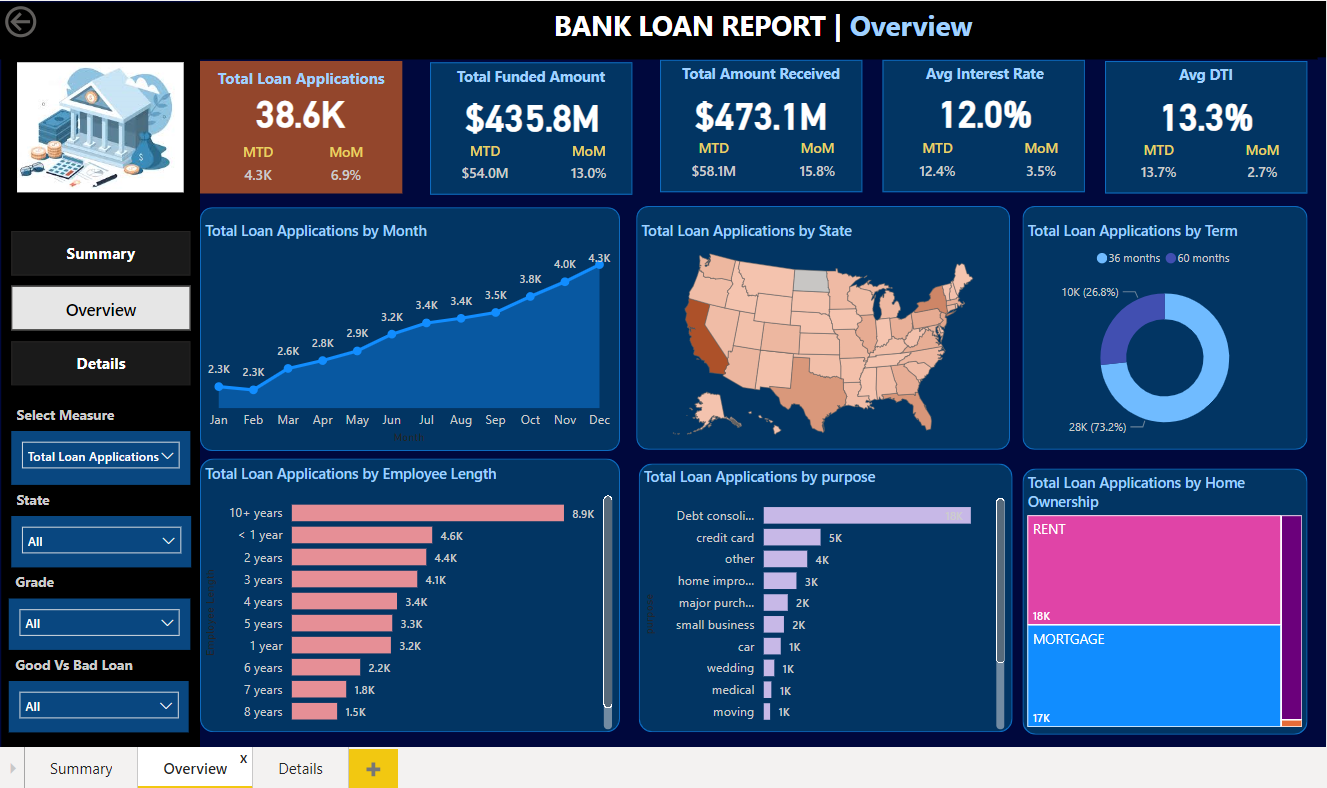

The page's visual inventory and layout, read from the dashboard file:
{"tool":"powerbi","page":{"name":"Overview","canvas":[1280,720],"ordinal":1},"visuals":[{"type":"shape","box":[1.2,55.5,191.8,664.5],"z":0},{"type":"shape","box":[193,199,405.2,235.2],"z":1000},{"type":"shape","box":[1066.1,58.1,195.4,127.8],"z":2000},{"type":"shape","box":[851.9,56.2,195.4,127.8],"z":3000},{"type":"shape","box":[636.4,56.8,195.4,127.8],"z":4000},{"type":"shape","box":[0,1.2,1271.2,55.5],"z":5000},{"type":"shape","box":[415.1,59.3,195.4,127.8],"z":6000},{"type":"shape","box":[193,57.9,195.4,127.8],"z":7000},{"type":"textbox","box":[193.4,0,1086.6,54.3],"z":8000},{"type":"card","fields":{"Values":["bank_loan_data.Total Loan Applications"]},"box":[192,83.5,196.2,47.3],"z":9000},{"type":"textbox","box":[193,59.1,195.4,30.2],"z":10000},{"type":"card","title":"MTD","fields":{"Values":["bank_loan_data.MTD Loan Applications"]},"box":[219.5,136.3,59.1,49.4],"z":11000},{"type":"card","title":"MoM","fields":{"Values":["bank_loan_data.MoM Loan Applications"]},"box":[300.3,136.3,67.5,49.4],"z":12000},{"type":"card","fields":{"Values":["bank_loan_data.Total Funded Amount"]},"box":[415.6,87.1,195.4,47],"z":13000},{"type":"card","title":"MoM","fields":{"Values":["bank_loan_data.MoM Funded Amount"]},"box":[539.8,135.3,55.5,49.4],"z":14000},{"type":"card","title":"MTD","fields":{"Values":["bank_loan_data.MTD Funded Amount"]},"box":[433.7,135.3,67.5,49.4],"z":15000},{"type":"textbox","box":[415.3,58.1,194.8,29.2],"z":16000},{"type":"textbox","box":[636.6,55.6,194.8,29.2],"z":17000},{"type":"card","fields":{"Values":["bank_loan_data.Total Amount Received"]},"box":[637,84.2,195.4,47],"z":18000},{"type":"card","title":"MoM","fields":{"Values":["bank_loan_data.MoM Amount Received"]},"box":[761.1,132.8,55.5,49.4],"z":19000},{"type":"card","title":"MTD","fields":{"Values":["bank_loan_data.MTD Amount Received"]},"box":[655,132.8,67.5,49.4],"z":20000},{"type":"card","title":"MoM","fields":{"Values":["bank_loan_data.MOM Avg Int Rate"]},"box":[976.6,132.2,55.5,49.4],"z":21000},{"type":"card","title":"MTD","fields":{"Values":["bank_loan_data.MTD Avg Int Rate"]},"box":[870.5,132.2,67.5,49.4],"z":22000},{"type":"card","fields":{"Values":["bank_loan_data.Avg Int rate"]},"box":[852.5,83.6,195.4,47],"z":23000},{"type":"textbox","box":[852.1,55,194.8,29.2],"z":24000},{"type":"card","title":"MoM","fields":{"Values":["bank_loan_data.MoM Avg DTI"]},"box":[1190.8,134.1,55.5,49.4],"z":25000},{"type":"card","title":"MTD","fields":{"Values":["bank_loan_data.MTD Avg DTI"]},"box":[1084.7,134.1,67.5,49.4],"z":26000},{"type":"card","fields":{"Values":["bank_loan_data.Avg DTI"]},"box":[1066.7,85.5,195.4,47],"z":27000},{"type":"textbox","box":[1066.3,56.9,194.8,29.2],"z":28000},{"type":"actionButton","box":[0,0,100,40],"z":29000},{"type":"slicer","fields":{"Values":["bank_loan_data.address_state"]},"box":[10.9,496.9,173.7,49.4],"z":30000},{"type":"textbox","box":[10.9,466.7,137.5,30.2],"z":31000},{"type":"textbox","box":[9.6,546.3,137.5,30.2],"z":32000},{"type":"slicer","fields":{"Values":["bank_loan_data.grade"]},"box":[8.4,576.5,174.9,49.4],"z":33000},{"type":"textbox","box":[9.6,625.9,137.5,30.2],"z":34000},{"type":"slicer","fields":{"Values":["bank_loan_data.Good Vs Bad Loan"]},"box":[8.4,656.1,173.7,49.4],"z":35000},{"type":"areaChart","fields":{"Y":["bank_loan_data.Total Loan Applications"],"Category":["Date Table.Month"]},"box":[193,211.1,404,220.7],"z":36000},{"type":"slicer","fields":{"Values":["Select Measure.Select Measure"]},"box":[10.9,414.9,172.5,51.9],"z":37000},{"type":"textbox","box":[10.9,384.7,137.5,30.2],"z":38000},{"type":"shape","box":[613.9,197.8,360.6,235.2],"z":39000},{"type":"shapeMap","fields":{"Value":["bank_loan_data.Total Loan Applications"],"Category":["bank_loan_data.address_state"]},"box":[613.9,211.1,360.6,221.9],"z":40000},{"type":"shape","box":[986.5,197.8,275,235.2],"z":41000},{"type":"donutChart","fields":{"Y":["bank_loan_data.Total Loan Applications"],"Category":["bank_loan_data.term"]},"box":[986.5,211.1,275,220.7],"z":42000},{"type":"shape","box":[193,441.4,405.2,264.1],"z":43000},{"type":"barChart","fields":{"Y":["bank_loan_data.Total Loan Applications"],"Category":["bank_loan_data.emp_length"]},"box":[193,446.2,402.8,261.7],"z":44000},{"type":"shape","box":[616.3,446.2,360.6,259.3],"z":45000},{"type":"barChart","fields":{"Y":["bank_loan_data.Total Loan Applications"],"Category":["bank_loan_data.purpose"]},"box":[616.3,448.6,358.2,259.3],"z":46000},{"type":"shape","box":[986.5,451.1,275,256.9],"z":47000},{"type":"treemap","fields":{"Values":["bank_loan_data.Total Loan Applications"],"Group":["bank_loan_data.home_ownership"]},"box":[986.5,454.7,275,250.9],"z":48000},{"type":"pageNavigator","box":[10.9,221.9,173.7,152],"z":49000},{"type":"image","box":[8.4,54.3,176.1,135.1],"z":50000}]}

Visuals, with their boxes on the page's 1280x720 design canvas (x1, y1, x2, y2). These are canvas units, not pixel positions in the 1327x788 screenshot, which may show the page scaled, cropped or inside an application window:
shape: Rect(1, 56, 193, 720)
shape: Rect(193, 199, 598, 434)
shape: Rect(1066, 58, 1262, 186)
shape: Rect(852, 56, 1047, 184)
shape: Rect(636, 57, 832, 185)
shape: Rect(0, 1, 1271, 57)
shape: Rect(415, 59, 610, 187)
shape: Rect(193, 58, 388, 186)
textbox: Rect(193, 0, 1280, 54)
card - bank_loan_data.Total Loan Applications: Rect(192, 84, 388, 131)
textbox: Rect(193, 59, 388, 89)
"MTD" card: Rect(220, 136, 279, 186)
"MoM" card: Rect(300, 136, 368, 186)
card - bank_loan_data.Total Funded Amount: Rect(416, 87, 611, 134)
"MoM" card: Rect(540, 135, 595, 185)
"MTD" card: Rect(434, 135, 501, 185)
textbox: Rect(415, 58, 610, 87)
textbox: Rect(637, 56, 831, 85)
card - bank_loan_data.Total Amount Received: Rect(637, 84, 832, 131)
"MoM" card: Rect(761, 133, 817, 182)
"MTD" card: Rect(655, 133, 722, 182)
"MoM" card: Rect(977, 132, 1032, 182)
"MTD" card: Rect(870, 132, 938, 182)
card - bank_loan_data.Avg Int rate: Rect(852, 84, 1048, 131)
textbox: Rect(852, 55, 1047, 84)
"MoM" card: Rect(1191, 134, 1246, 184)
"MTD" card: Rect(1085, 134, 1152, 184)
card - bank_loan_data.Avg DTI: Rect(1067, 86, 1262, 132)
textbox: Rect(1066, 57, 1261, 86)
actionButton: Rect(0, 0, 100, 40)
slicer - bank_loan_data.address_state: Rect(11, 497, 185, 546)
textbox: Rect(11, 467, 148, 497)
textbox: Rect(10, 546, 147, 576)
slicer - bank_loan_data.grade: Rect(8, 576, 183, 626)
textbox: Rect(10, 626, 147, 656)
slicer - bank_loan_data.Good Vs Bad Loan: Rect(8, 656, 182, 706)
areaChart - bank_loan_data.Total Loan Applications x Date Table.Month: Rect(193, 211, 597, 432)
slicer - Select Measure.Select Measure: Rect(11, 415, 183, 467)
textbox: Rect(11, 385, 148, 415)
shape: Rect(614, 198, 974, 433)
shapeMap - bank_loan_data.Total Loan Applications x bank_loan_data.address_state: Rect(614, 211, 974, 433)
shape: Rect(986, 198, 1262, 433)
donutChart - bank_loan_data.Total Loan Applications x bank_loan_data.term: Rect(986, 211, 1262, 432)
shape: Rect(193, 441, 598, 706)
barChart - bank_loan_data.Total Loan Applications x bank_loan_data.emp_length: Rect(193, 446, 596, 708)
shape: Rect(616, 446, 977, 706)
barChart - bank_loan_data.Total Loan Applications x bank_loan_data.purpose: Rect(616, 449, 974, 708)
shape: Rect(986, 451, 1262, 708)
treemap - bank_loan_data.Total Loan Applications x bank_loan_data.home_ownership: Rect(986, 455, 1262, 706)
pageNavigator: Rect(11, 222, 185, 374)
image: Rect(8, 54, 184, 189)
